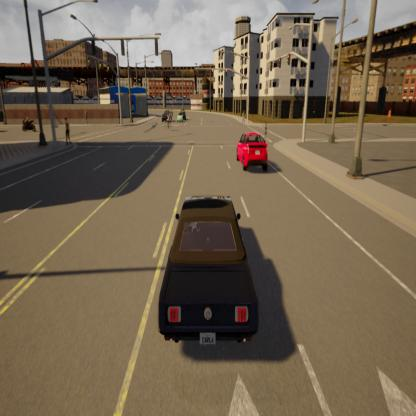Cars: (149, 186, 263, 352), (230, 131, 273, 175), (162, 107, 173, 126), (178, 113, 184, 123)
Pedestrian: (60, 114, 77, 150), (262, 117, 270, 143)
